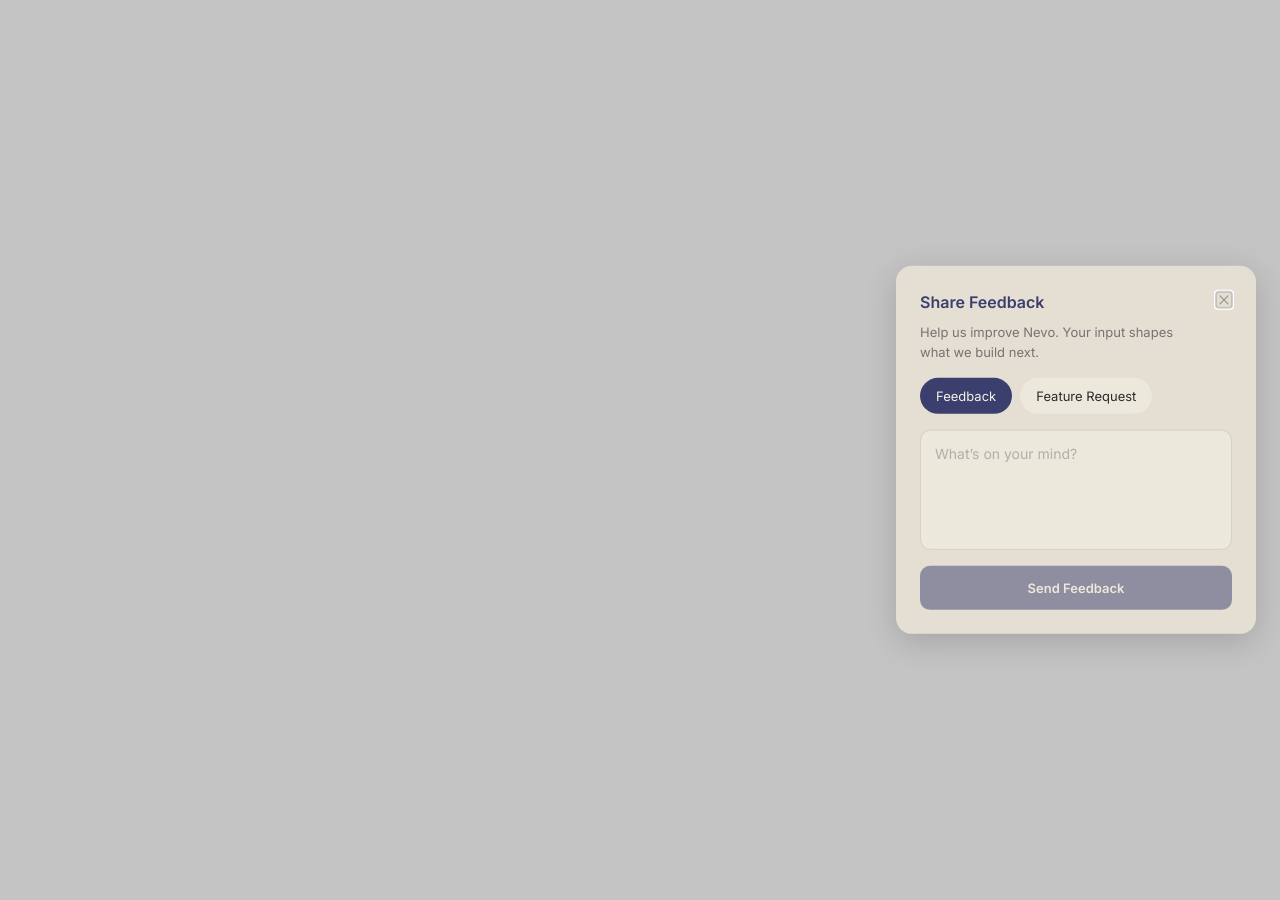
Test: feedback that could not be sent › says so in the frame's words, above the note
The width and height of the screenshot is (1280, 900).
In the text box named "Your feedback": (1076,490) [920,430,1232,550], type "The upload screen froze."
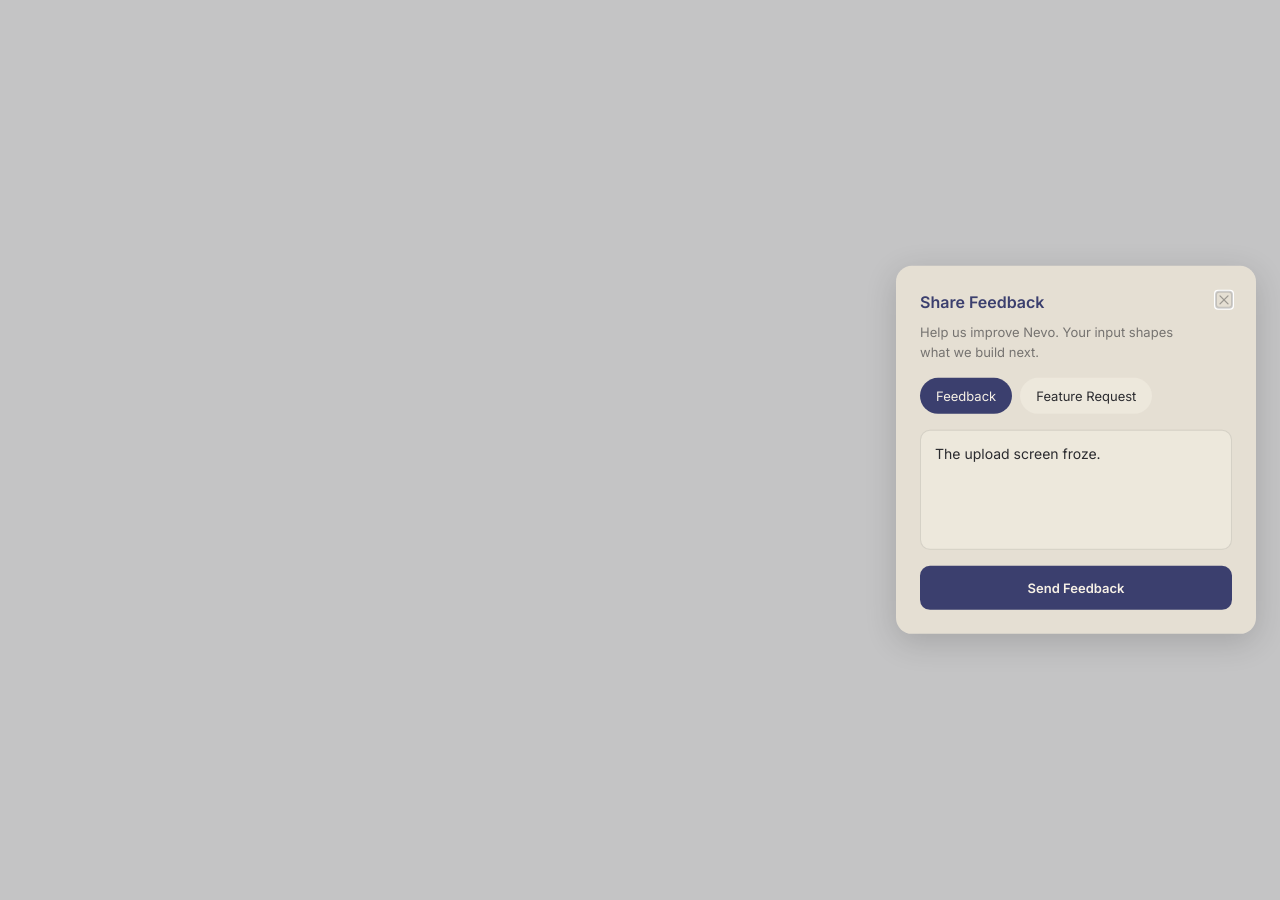
Click the button "Send Feedback": (1076,588) [920,566,1232,610]
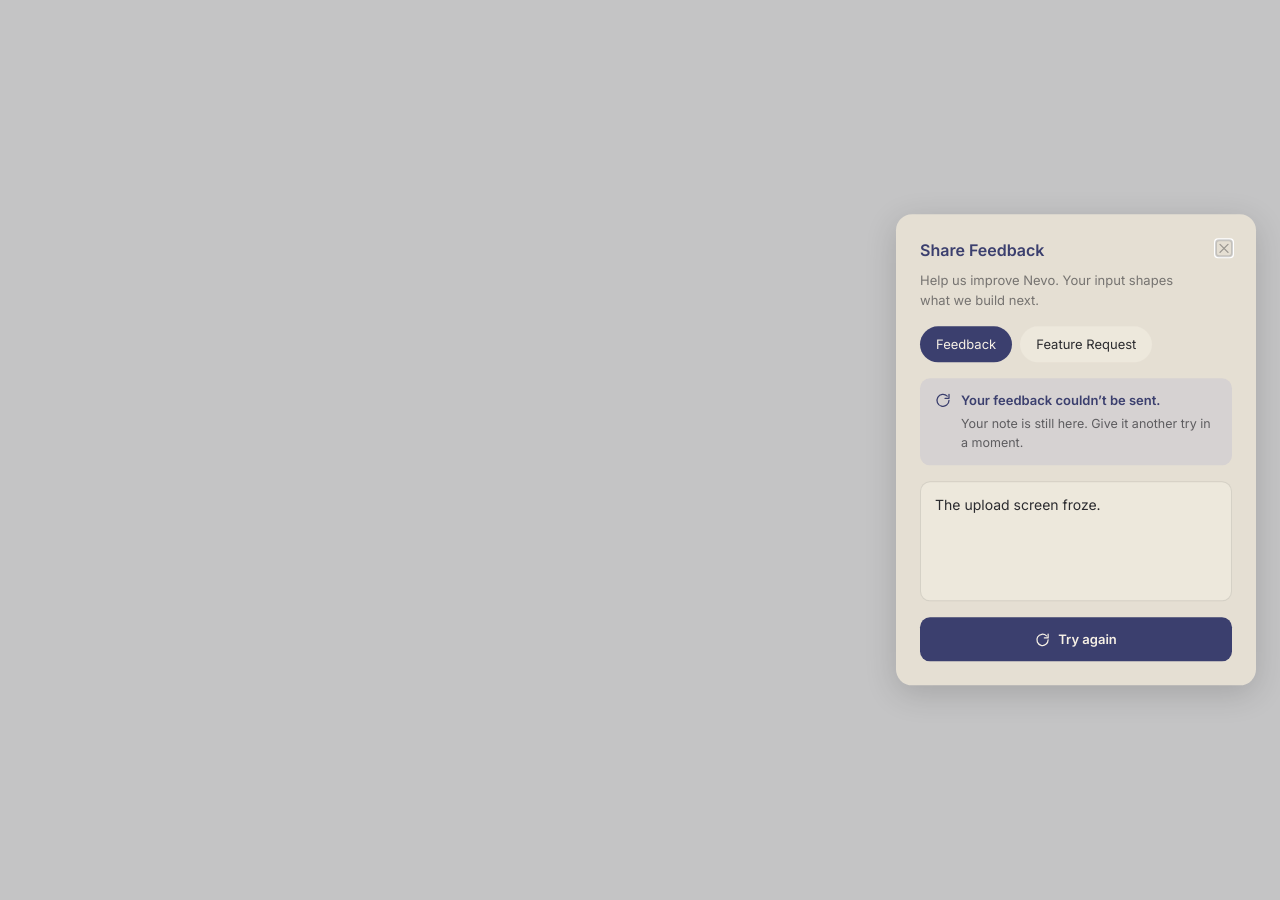
Now the message shows "Your feedback couldn’t be sent.", box [961,393,1160,409]
Now the message shows "Your note is still here. Give it another try in a moment.", box [961,416,1211,450]
